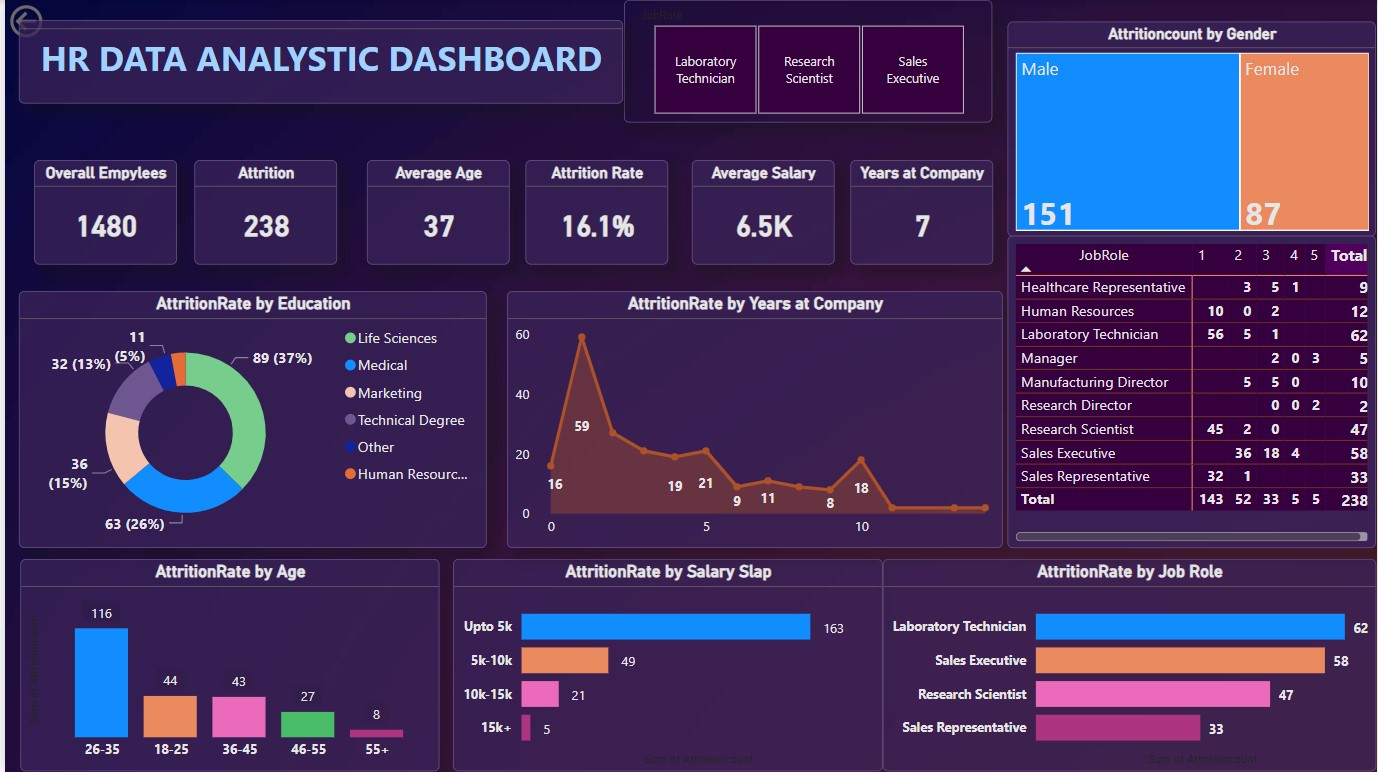

The dashboard page shown, as its layout file describes it:
{"tool":"powerbi","page":{"name":"Page 1","canvas":[1280,720],"ordinal":0},"visuals":[{"type":"donutChart","title":" AttritionRate by Education","fields":{"Y":["Sum(HR_Analytics(1).AttritionRate)"],"Category":["HR_Analytics(1).EducationField"]},"box":[13,272.2,436.4,239.8],"z":0},{"type":"clusteredColumnChart","title":" AttritionRate by Age","fields":{"Category":["HR_Analytics(1).AgeGroup"],"Y":["Sum(HR_Analytics(1).AttritionRate)"]},"box":[13.9,521.5,390.7,198.3],"z":1000},{"type":"barChart","title":" AttritionRate by Salary Slap","fields":{"Category":["HR_Analytics(1).SalarySlab"],"Y":["Sum(HR_Analytics(1).AttritionRate)"]},"box":[418.4,521.5,400.6,198.3],"z":2000},{"type":"clusteredBarChart","title":" AttritionRate by Job Role","fields":{"Category":["HR_Analytics(1).JobRole"],"Y":["Sum(HR_Analytics(1).AttritionRate)"]},"box":[819,521.5,460.1,198.3],"z":3000},{"type":"stackedAreaChart","title":" AttritionRate by Years at Company","fields":{"Y":["Sum(HR_Analytics(1).AttritionRate)"],"Category":["HR_Analytics(1).YearsAtCompany"]},"box":[468.8,272.2,462.3,239.8],"z":4000},{"type":"card","title":"Overall Empylees","fields":{"Values":["CountNonNull(HR_Analytics(1).AttritionRate)"]},"box":[27.8,148.7,132.9,97.2],"z":5000},{"type":"card","title":"Attrition","fields":{"Values":["Sum(HR_Analytics(1).Attritioncount)"]},"box":[176.5,148.7,132.9,97.2],"z":6000},{"type":"card","title":"Average Age","fields":{"Values":["Avg(HR_Analytics(1).Age)"]},"box":[337.1,148.7,132.9,97.2],"z":7000},{"type":"card","title":"Attrition Rate","fields":{"Values":["HR_Analytics(1).AttritionRate"]},"box":[485.8,148.7,132.9,97.2],"z":8000},{"type":"card","title":"Average Salary","fields":{"Values":["Avg(HR_Analytics(1).MonthlyIncome)"]},"box":[640.5,148.7,132.9,97.2],"z":9000},{"type":"card","title":"Years at Company","fields":{"Values":["Avg(HR_Analytics(1).YearsAtCompany)"]},"box":[789.3,148.7,132.9,97.2],"z":10000},{"type":"actionButton","box":[0,0,100,40],"z":11000},{"type":"treemap","title":"Attritioncount by Gender","fields":{"Values":["Sum(HR_Analytics(1).Attritioncount)"],"Group":["HR_Analytics(1).Gender"]},"box":[935.5,19.4,343.5,200.9],"z":13000},{"type":"slicer","title":"Attritionby jobe role","fields":{"Values":["HR_Analytics(1).JobRole"]},"box":[576.8,0,343.5,114.5],"z":13001},{"type":"pivotTable","fields":{"Rows":["HR_Analytics(1).JobRole"],"Columns":["HR_Analytics(1).JobLevel"],"Values":["Sum(HR_Analytics(1).Attritioncount)"]},"box":[935.5,220.4,343.5,291.7],"z":13002},{"type":"textbox","box":[12.8,19.2,563.4,78.2],"z":13003}]}

Visuals, with their boxes in screenshot pixels (x1, y1, x2, y2), scaled from the page's 1280x720 canvas onto the 1378x772 screenshot:
" AttritionRate by Education" donutChart: left=14, top=292, right=484, bottom=549
" AttritionRate by Age" clusteredColumnChart: left=15, top=559, right=436, bottom=771
" AttritionRate by Salary Slap" barChart: left=450, top=559, right=882, bottom=771
" AttritionRate by Job Role" clusteredBarChart: left=882, top=559, right=1377, bottom=771
" AttritionRate by Years at Company" stackedAreaChart: left=505, top=292, right=1002, bottom=549
"Overall Empylees" card: left=30, top=159, right=173, bottom=264
"Attrition" card: left=190, top=159, right=333, bottom=264
"Average Age" card: left=363, top=159, right=506, bottom=264
"Attrition Rate" card: left=523, top=159, right=666, bottom=264
"Average Salary" card: left=690, top=159, right=833, bottom=264
"Years at Company" card: left=850, top=159, right=993, bottom=264
actionButton: left=0, top=0, right=108, bottom=43
"Attritioncount by Gender" treemap: left=1007, top=21, right=1377, bottom=236
"Attritionby jobe role" slicer: left=621, top=0, right=991, bottom=123
pivotTable - HR_Analytics(1).JobRole x HR_Analytics(1).JobLevel: left=1007, top=236, right=1377, bottom=549
textbox: left=14, top=21, right=620, bottom=104
